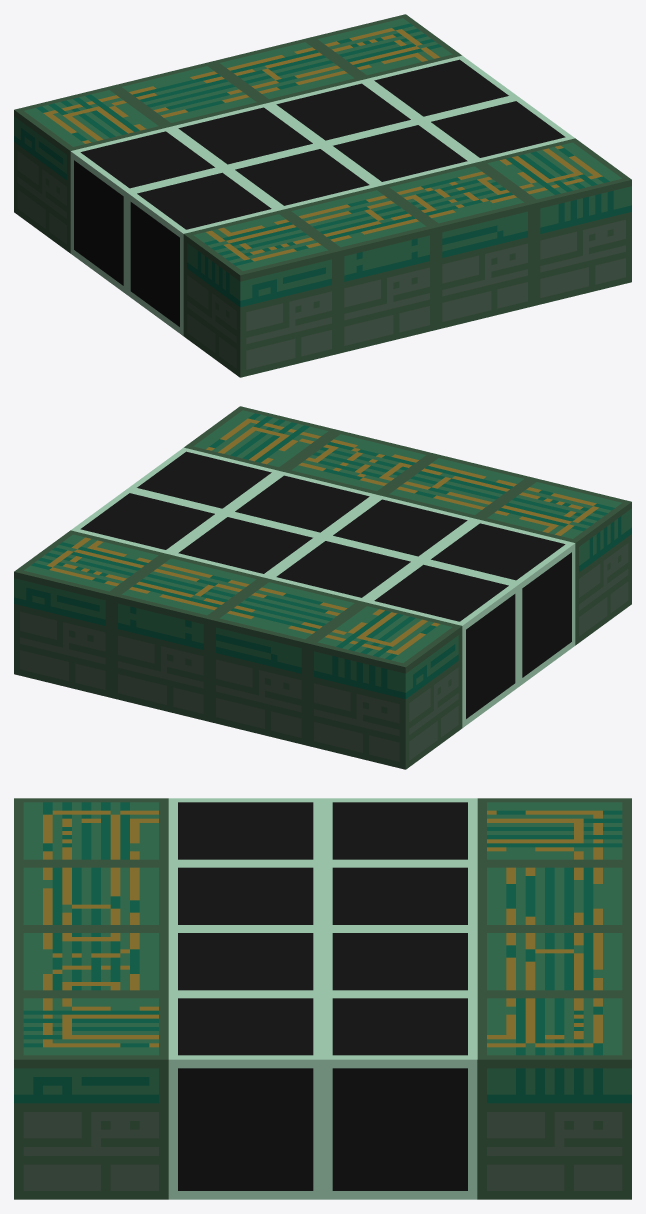
The model's file is m_tiles_9_4x4.fbx.
3 views of the same model, one above another, from view 1: azimuth 30°, elevation 25°; view 2: azimuth 150°, elevation 25°; view 3: azimuth 270°, elevation 25° (orthographic). The views are drawn at different scales.
Parts seen in each view (by area): view 1: m_tiles_9_4x4; view 2: m_tiles_9_4x4; view 3: m_tiles_9_4x4.
Part boxes in pixels (x1,y1,x2,y2): m_tiles_9_4x4: (14, 14, 631, 377); m_tiles_9_4x4: (14, 406, 631, 769); m_tiles_9_4x4: (14, 798, 631, 1199).
Size of the model in its own units: 6.4 by 1.6 by 6.4.
Materials: 1 (1 with a texture image).
